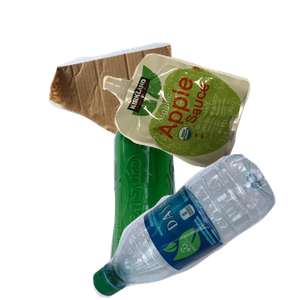cardboard: (46, 40, 226, 179)
glass: (107, 120, 278, 300)
plastic: (90, 154, 300, 300)
trash: (100, 51, 300, 214)
